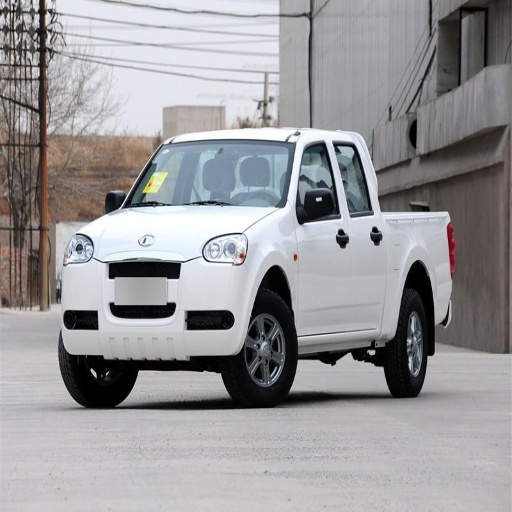back_glass: (128, 145, 198, 206)
back_left_door: (332, 139, 386, 328)
front_bumper: (63, 255, 257, 354)
front_glass: (199, 140, 292, 206)
front_left_door: (297, 140, 353, 335)
tailgate: (67, 206, 188, 289)
trunk: (386, 213, 450, 329)
